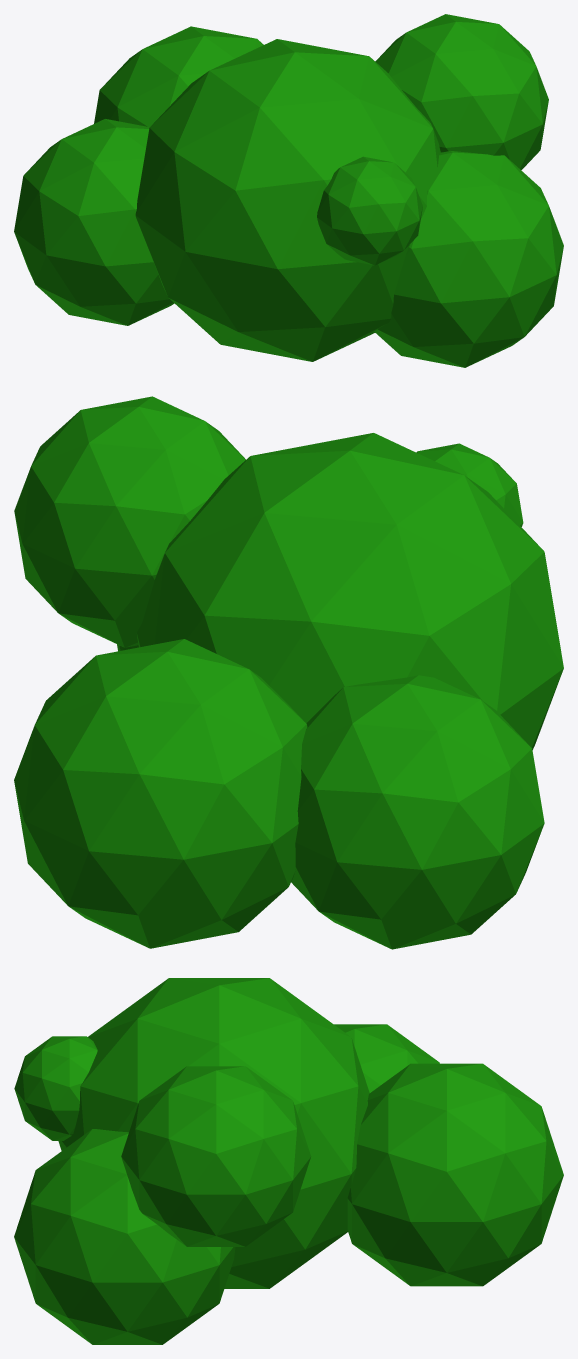
File: Bush.dae
3 views of the same model, one above another, from view 1: azimuth 30°, elevation 25°; view 2: azimuth 150°, elevation 25°; view 3: azimuth 270°, elevation 25° (orthographic). The views are drawn at different scales.
Parts seen in each view (by area): view 1: Icosphere.005; view 2: Icosphere.005; view 3: Icosphere.005.
Part boxes in pixels (x1,y1,x2,y2): Icosphere.005: [14, 14, 563, 367]; Icosphere.005: [14, 396, 563, 949]; Icosphere.005: [14, 978, 563, 1344].
Bounding box in the file's own units: 3.07 × 3.36 × 2.02.
Materials: 1 (1 with a texture image).
